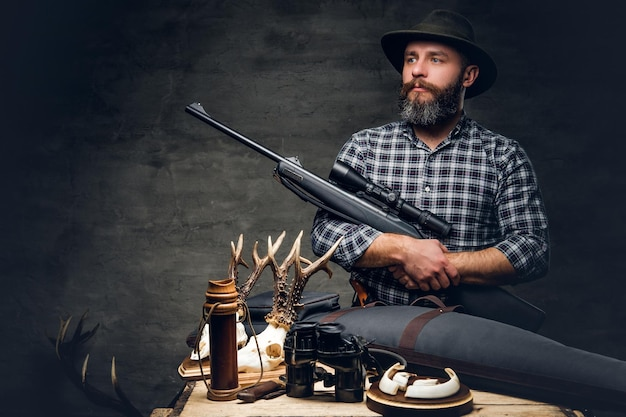gun: (184, 103, 456, 247)
